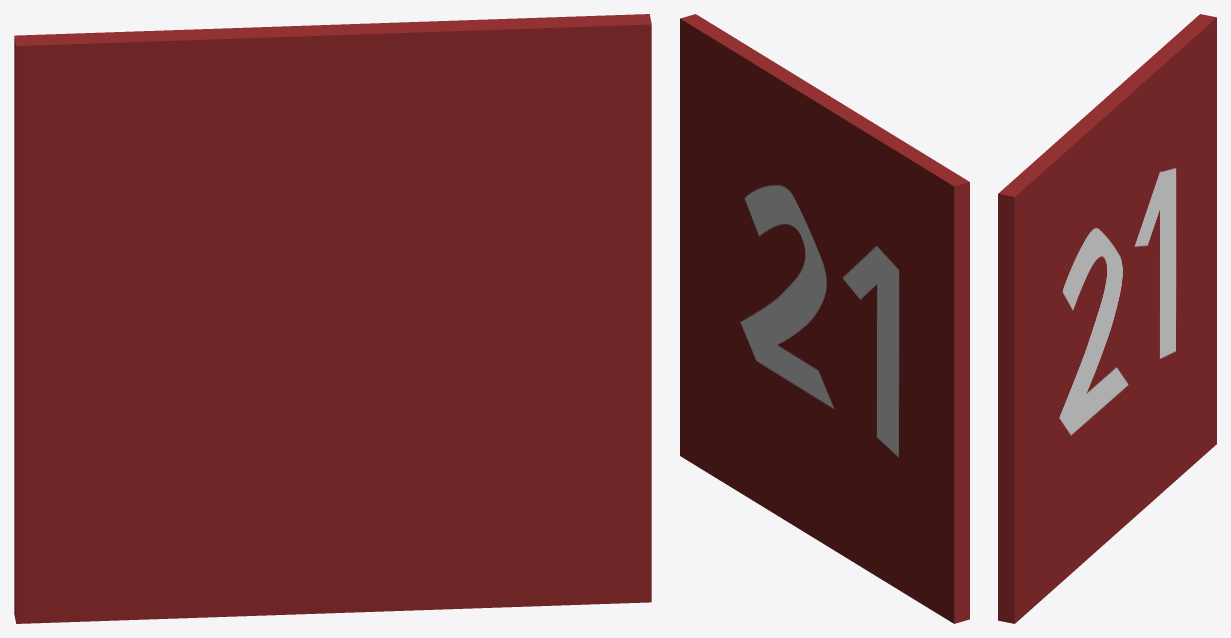
Rendered from flap20.glb.
The picture shows the model from 3 angles, left to right: view 1: azimuth 30°, elevation 25°; view 2: azimuth 150°, elevation 25°; view 3: azimuth 270°, elevation 25°; orthographic projection. The views are drawn at different scales.
Parts seen in each view (by area): view 1: flap.020; view 2: flap.020; view 3: flap.020.
Boxes of the visible parts, x1,y1,x2,y2 form: flap.020: (14, 14, 651, 623); flap.020: (680, 14, 969, 623); flap.020: (998, 14, 1216, 623).
Size of the model in its own units: 0.23 by 0.25 by 0.1161.
1 material, 1 textured.
